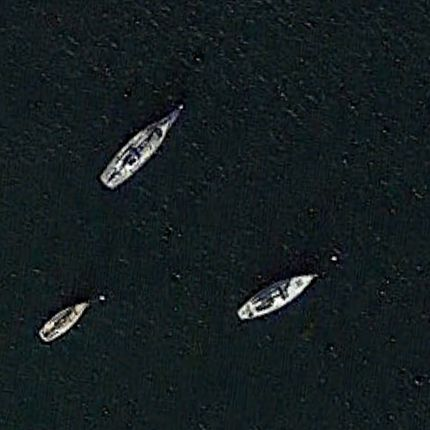boat: (100, 104, 186, 191), (236, 273, 321, 321), (38, 299, 94, 343)
